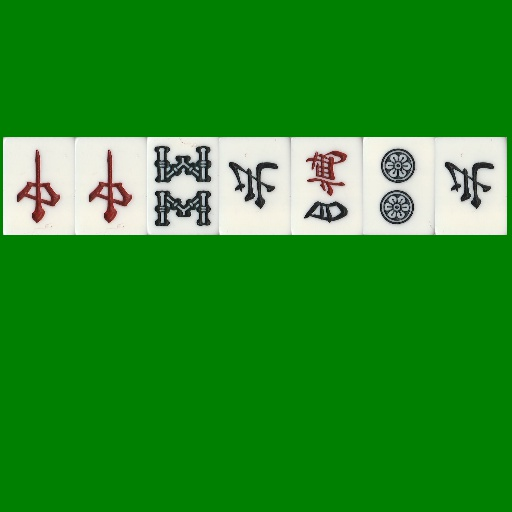2p: (363, 137, 435, 235)
4m: (291, 137, 363, 235)
8s: (147, 137, 219, 235)
north: (219, 137, 291, 235), (435, 137, 507, 235)
tyun: (3, 137, 75, 235), (75, 137, 147, 235)
